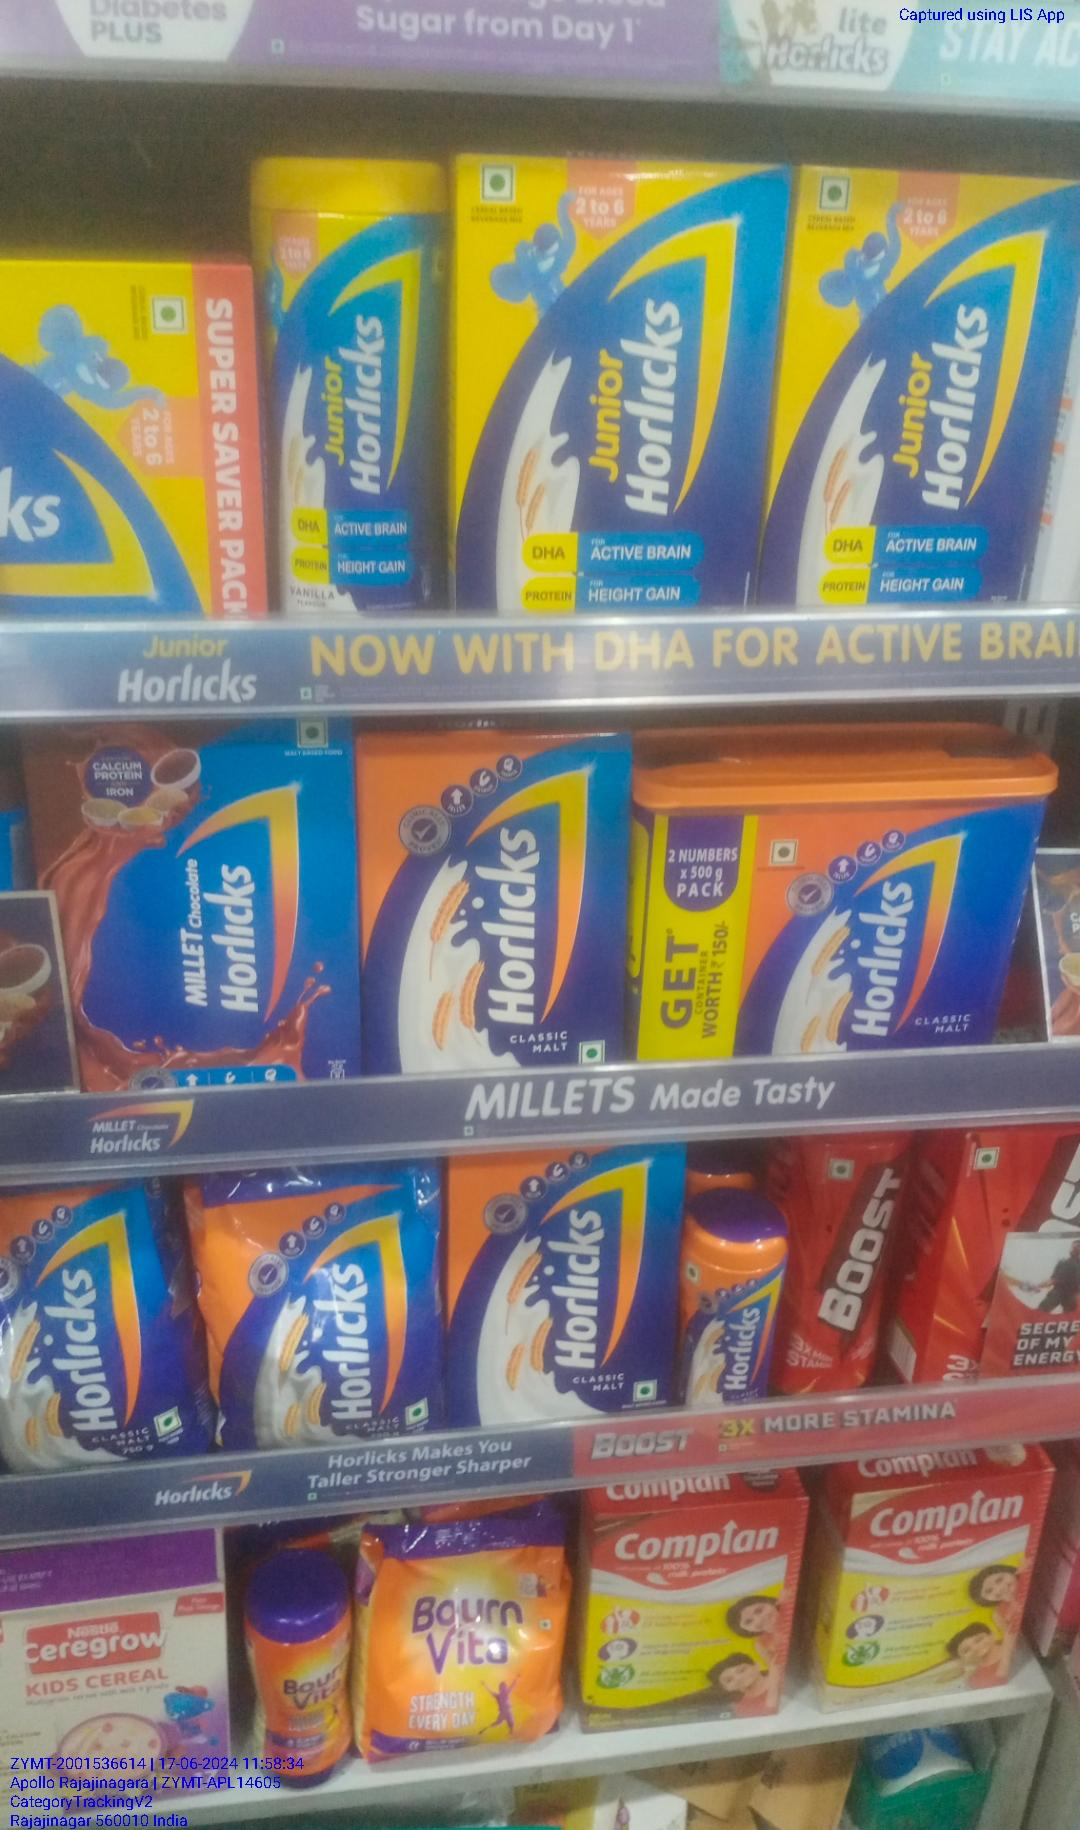BOURN_VITA_200_G_JAR: (248, 1586, 347, 1791)
BOURN_VITA_500_G_POUCH: (360, 1532, 552, 1757)
COMPLAN_CHOCOLATE_500_GMS_PACK: (590, 1495, 800, 1723)
COMPLAN_KESAR_BADAM_500_GMS_PACK: (838, 1491, 1009, 1691)
HORLICKS_JUNIOR_VANILLA_500_GM_JAR: (264, 150, 435, 623)
HORLICK_CLASSIC_MALT_500_G_JAR: (684, 1202, 787, 1417)
HORLICK_CLASSIC_MALT_500_G_PACK: (373, 738, 622, 1065), (445, 1160, 678, 1410)
HORLICK_MALT_1_KG_CONTAINER: (633, 766, 1035, 1051)
